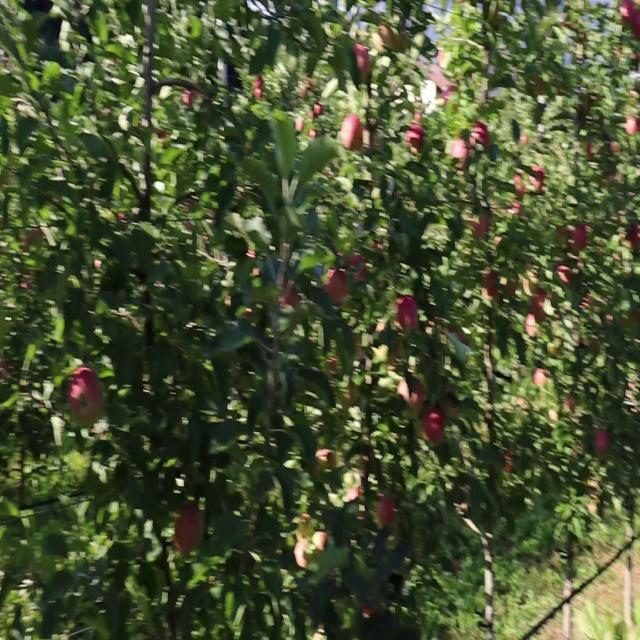apple: (68, 369, 104, 427), (176, 504, 206, 556), (432, 49, 456, 103), (400, 376, 427, 412), (340, 113, 364, 151), (468, 120, 492, 155), (396, 298, 420, 332), (424, 412, 445, 446), (328, 270, 349, 304), (468, 213, 490, 242), (376, 497, 396, 528), (528, 163, 546, 196), (348, 255, 368, 284), (484, 270, 501, 304), (356, 49, 373, 82), (532, 291, 549, 322), (280, 284, 299, 311), (620, 0, 637, 30), (452, 142, 469, 171), (408, 127, 425, 155), (344, 376, 359, 407), (524, 270, 540, 297), (556, 263, 573, 288), (572, 227, 589, 251), (376, 28, 396, 48), (452, 327, 470, 348), (596, 433, 611, 457), (296, 540, 308, 569), (504, 277, 518, 300), (516, 170, 527, 199), (528, 312, 539, 340), (252, 78, 265, 101), (633, 7, 640, 43), (552, 341, 564, 359), (628, 120, 640, 137), (564, 398, 576, 414), (632, 227, 640, 249), (512, 206, 524, 219)
